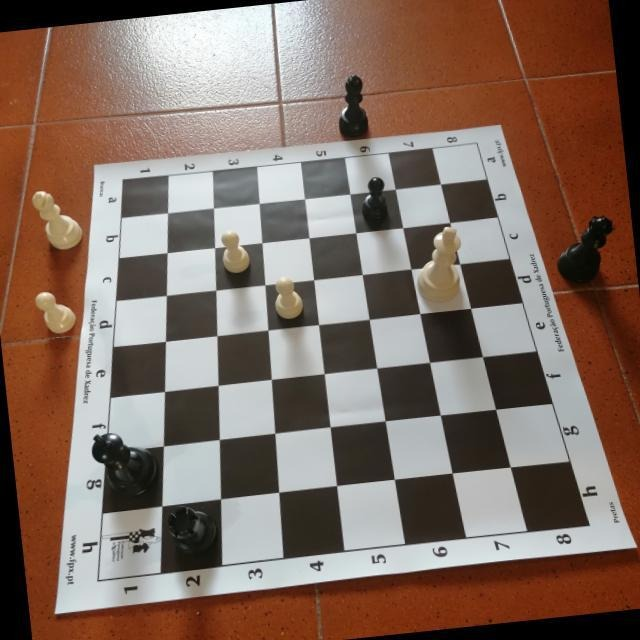black-bishop: (333, 72, 370, 140)
black-king: (89, 425, 163, 502)
black-pawn: (358, 173, 389, 222)
black-queen: (551, 212, 620, 287)
black-rook: (163, 501, 220, 559)
white-bishop: (30, 187, 85, 253)
white-king: (410, 224, 468, 306)
white-pawn: (34, 287, 78, 336), (271, 273, 305, 320), (219, 227, 252, 274)
